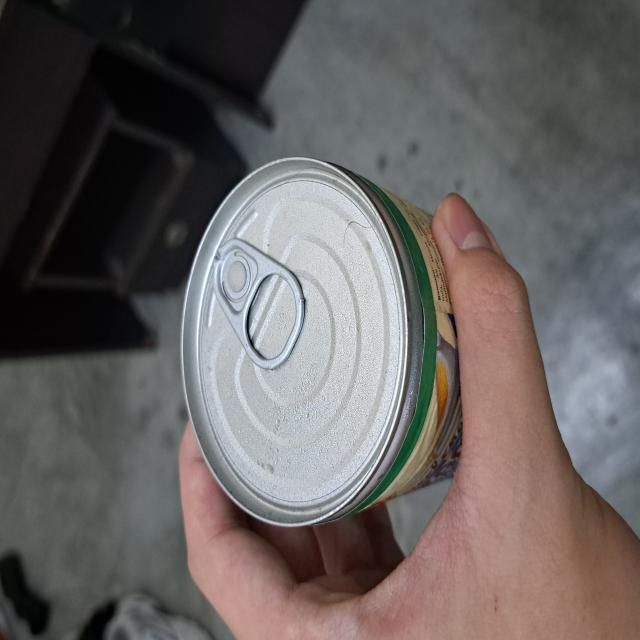can: (179, 154, 465, 533)
pop tab: (211, 239, 309, 373)
